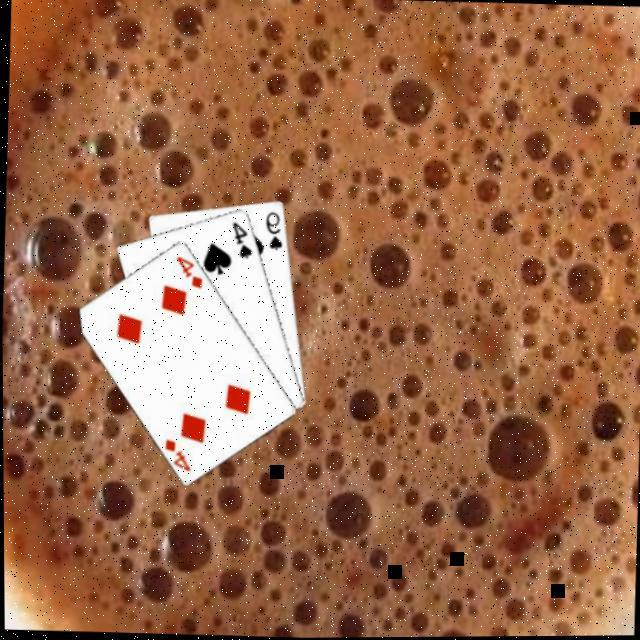4D: (173, 252, 207, 290), (161, 434, 194, 473)
4S: (230, 217, 257, 260)
9S: (263, 208, 288, 252)
